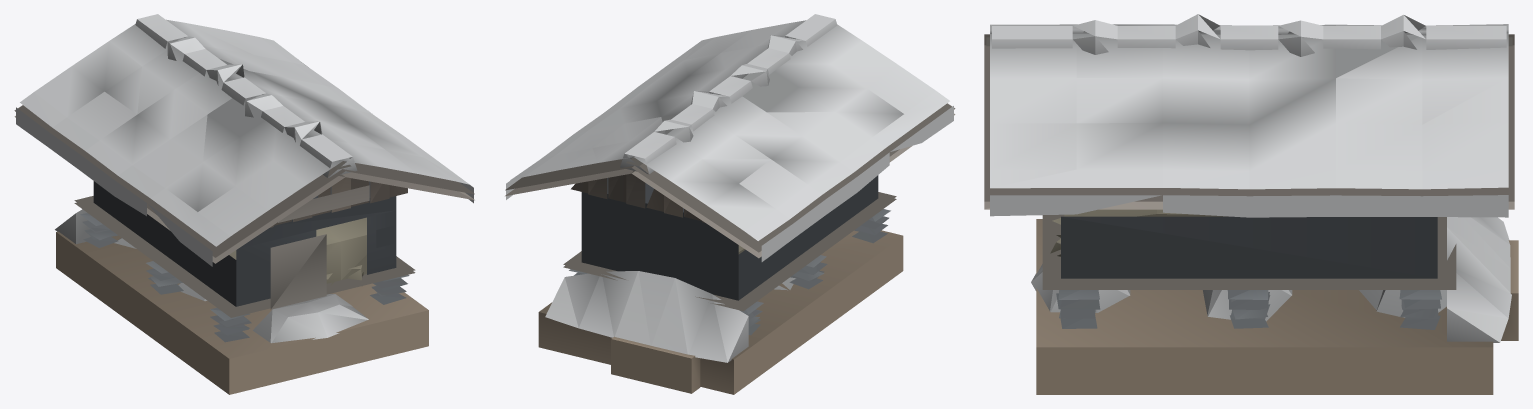
Rendered from barn.lod.glb.
The picture shows the model from 3 angles, left to right: view 1: azimuth 30°, elevation 25°; view 2: azimuth 150°, elevation 25°; view 3: azimuth 270°, elevation 25°; orthographic projection. The views are drawn at different scales.
Parts seen in each view (by area): view 1: barn; view 2: barn; view 3: barn.
Part boxes in pixels (box(x1,y1,x2,y2)): barn: box(14, 14, 474, 394); barn: box(505, 14, 955, 394); barn: box(984, 14, 1518, 394).
Size of the model in its own units: 7.8 by 6.56 by 10.48.
